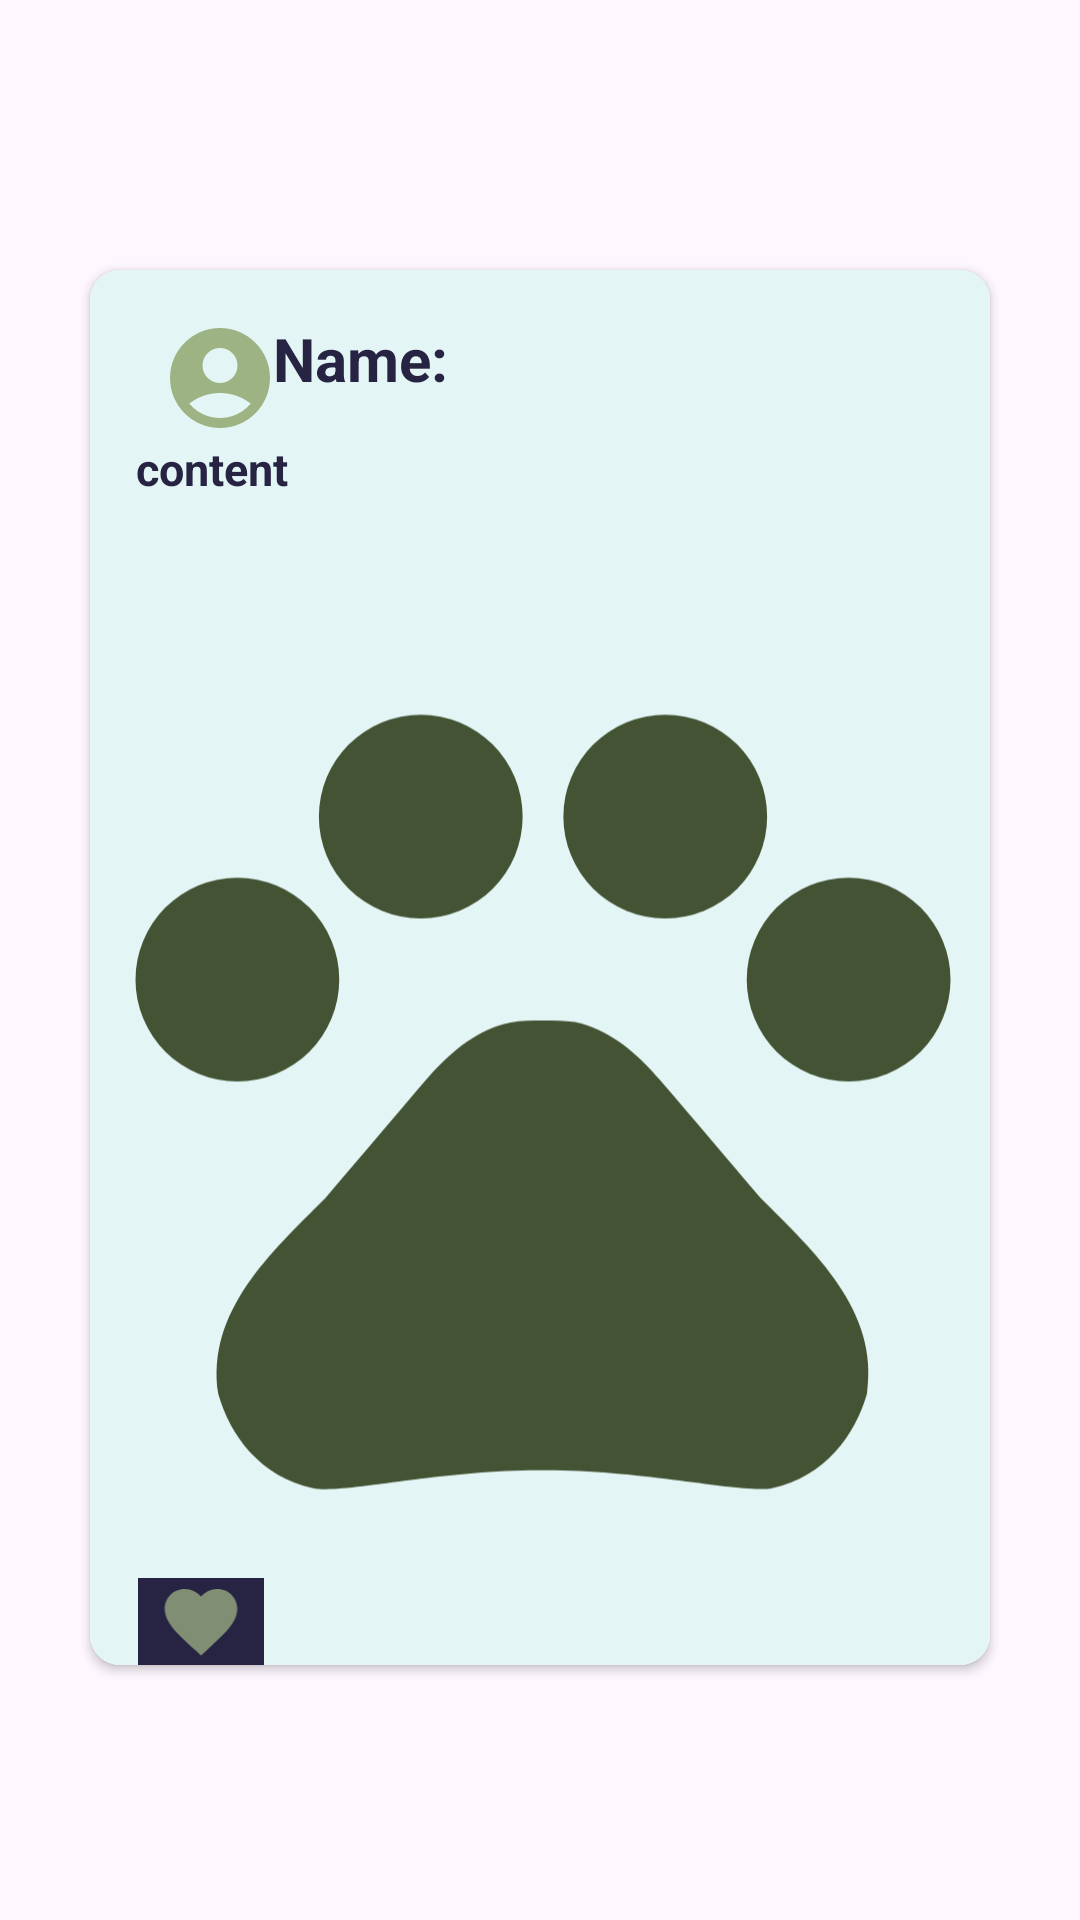

Named icons in this screenshot (1080x1920) and their bounding boxes, (x1, y1, x2, y2):
favorite: (138, 1578, 264, 1665)
profile users: (170, 328, 270, 428)
